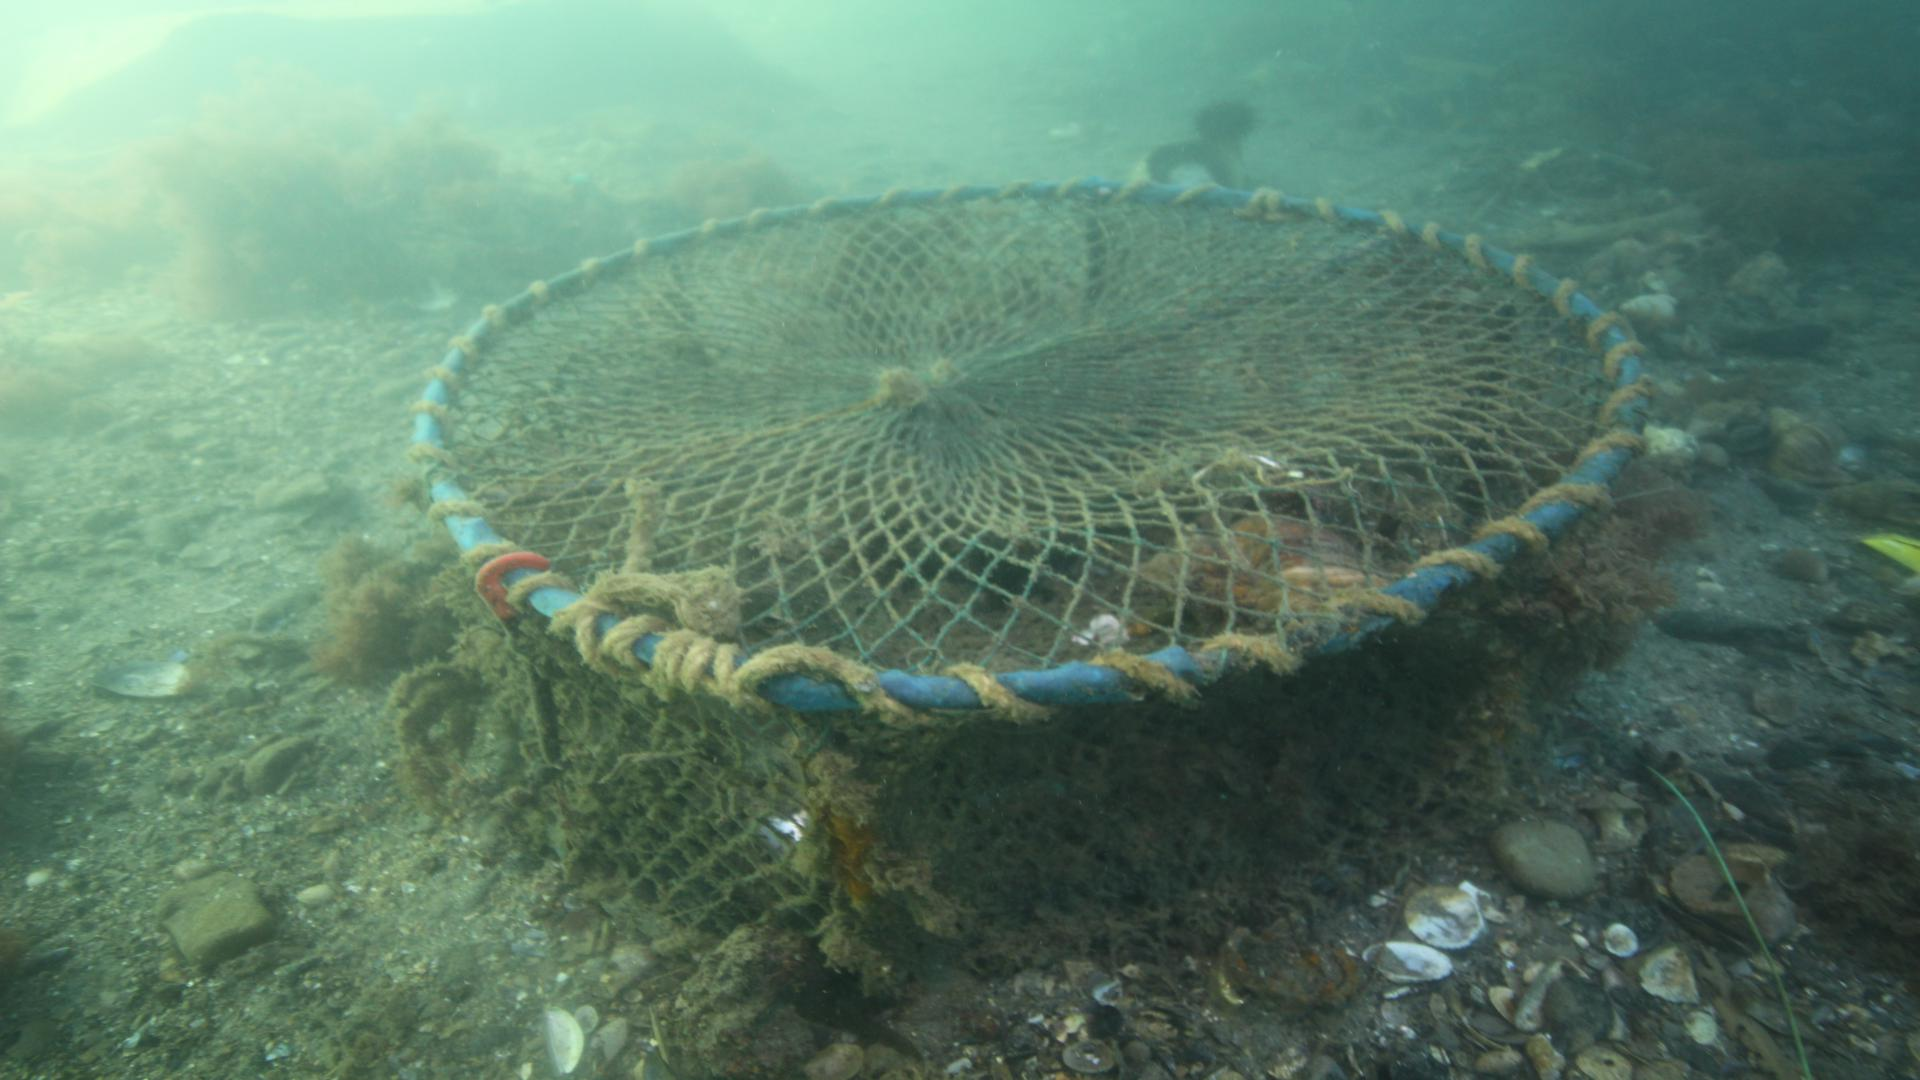circular fish trap: (404, 174, 1654, 973)
